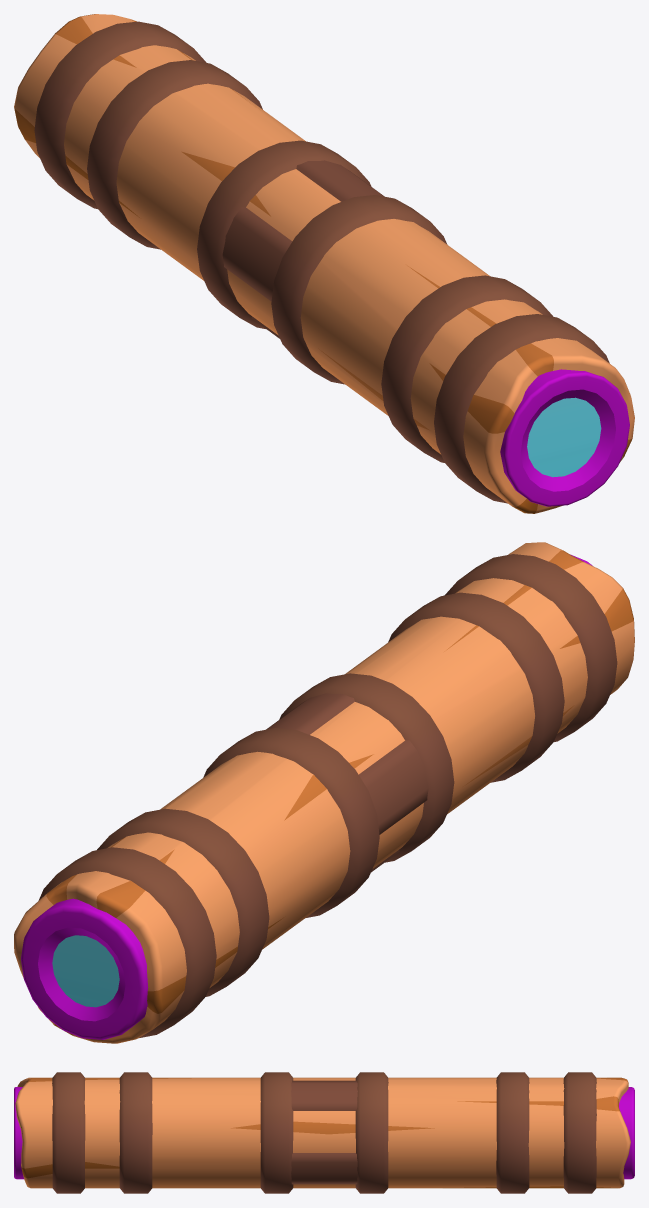
File: Log_1.glb
The picture shows the model from 3 angles, top to bottom: view 1: azimuth 30°, elevation 25°; view 2: azimuth 150°, elevation 25°; view 3: azimuth 270°, elevation 25°; orthographic projection. The views are drawn at different scales.
Visible parts, largest first — view 1: Log_1; view 2: Log_1; view 3: Log_1.
Part boxes in pixels (<box>): Log_1: <box>14,14,634,513</box>; Log_1: <box>14,542,634,1043</box>; Log_1: <box>14,1072,634,1193</box>.
Bounding box in the file's own units: 2.2 × 2.2 × 11.2.
1 material, 1 textured.
